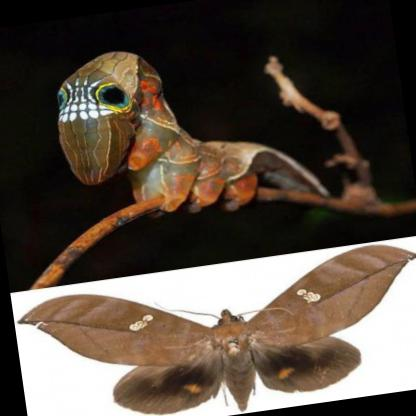fruit sucking moth: (18, 243, 415, 416)
